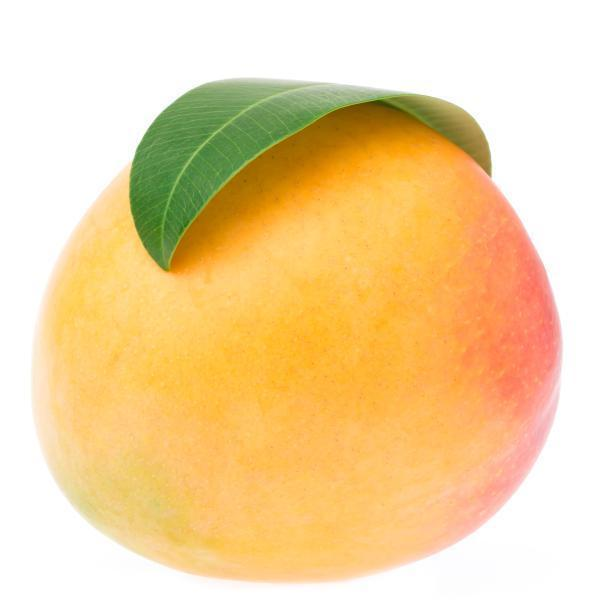mango: (26, 74, 584, 585)
